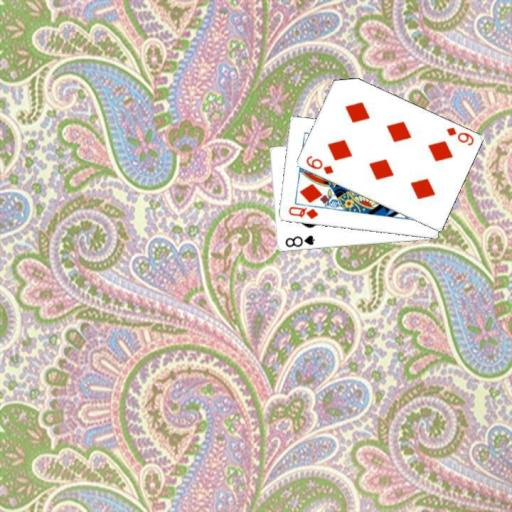6D: (302, 153, 335, 176), (443, 124, 475, 147)
8S: (282, 232, 317, 249)
QD: (285, 204, 319, 222)
